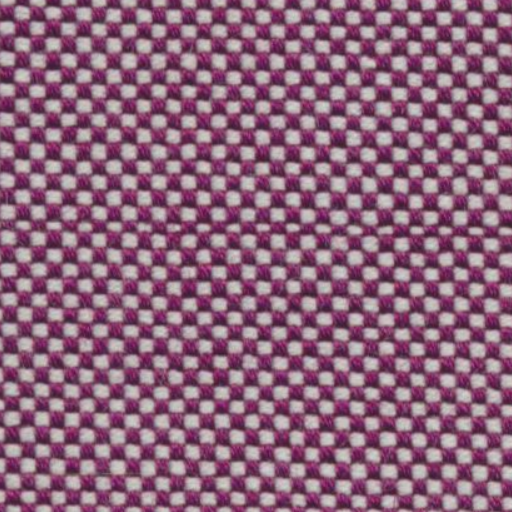TuoSha: (9, 194, 496, 272)
